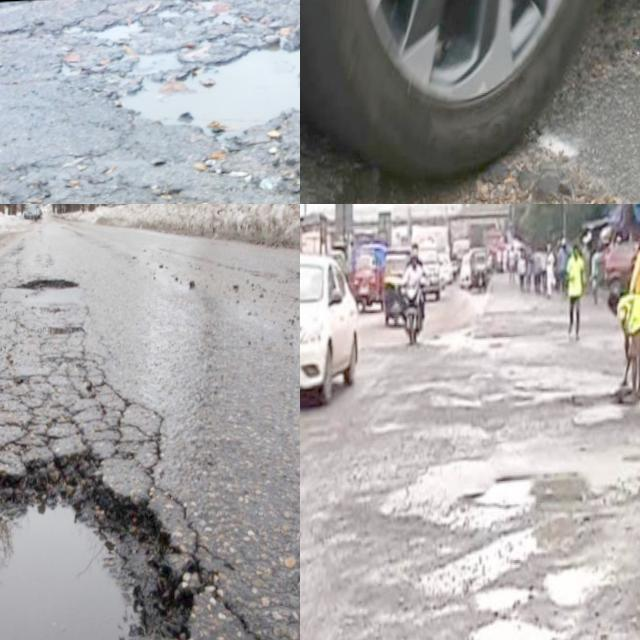Potholes: (0, 393, 236, 640), (39, 0, 300, 191), (393, 408, 616, 586), (300, 113, 640, 204), (417, 585, 640, 640), (419, 310, 551, 398), (11, 249, 96, 329)
